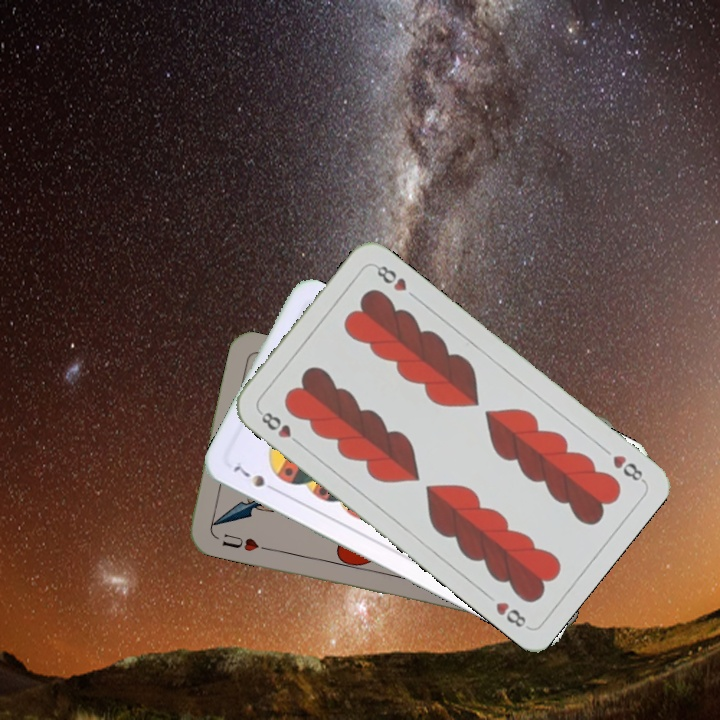H8: (255, 406, 305, 449), (608, 450, 647, 485)
HU: (218, 529, 269, 554)
S7: (229, 461, 281, 495)
